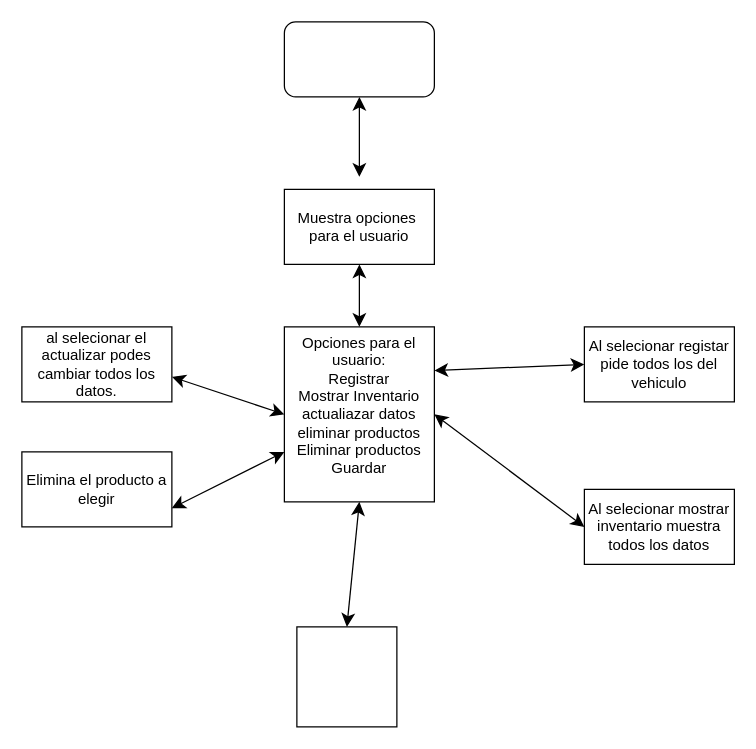
The diagram is 756 pixels wide and 749 high, and some of its shapes have lost their labels. Each missing label, with the centre of its shape:
Inicio: point 358,59
Quinta opcion gurda los datos en un documento txt: point 346,676
